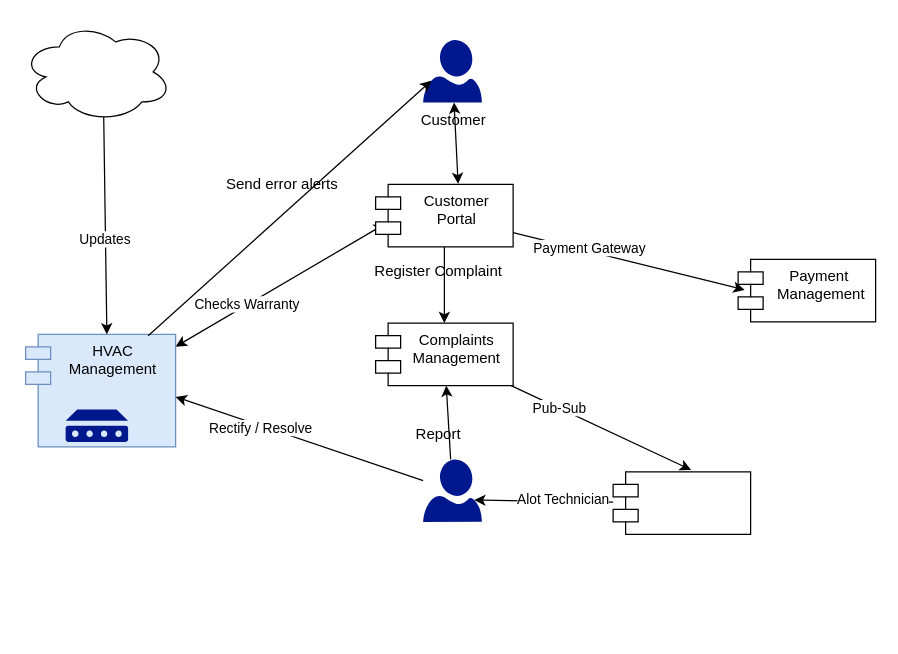
This 898x654 diagram has some shape labels left out. The shapes that lost their labels are listed below. From the top down, each one's box as (x1, y1, x2, y2) in pixels, then its label:
(21, 21, 172, 122): Cloud
(422, 459, 481, 521): Technician
(612, 471, 751, 534): Techinican Management
